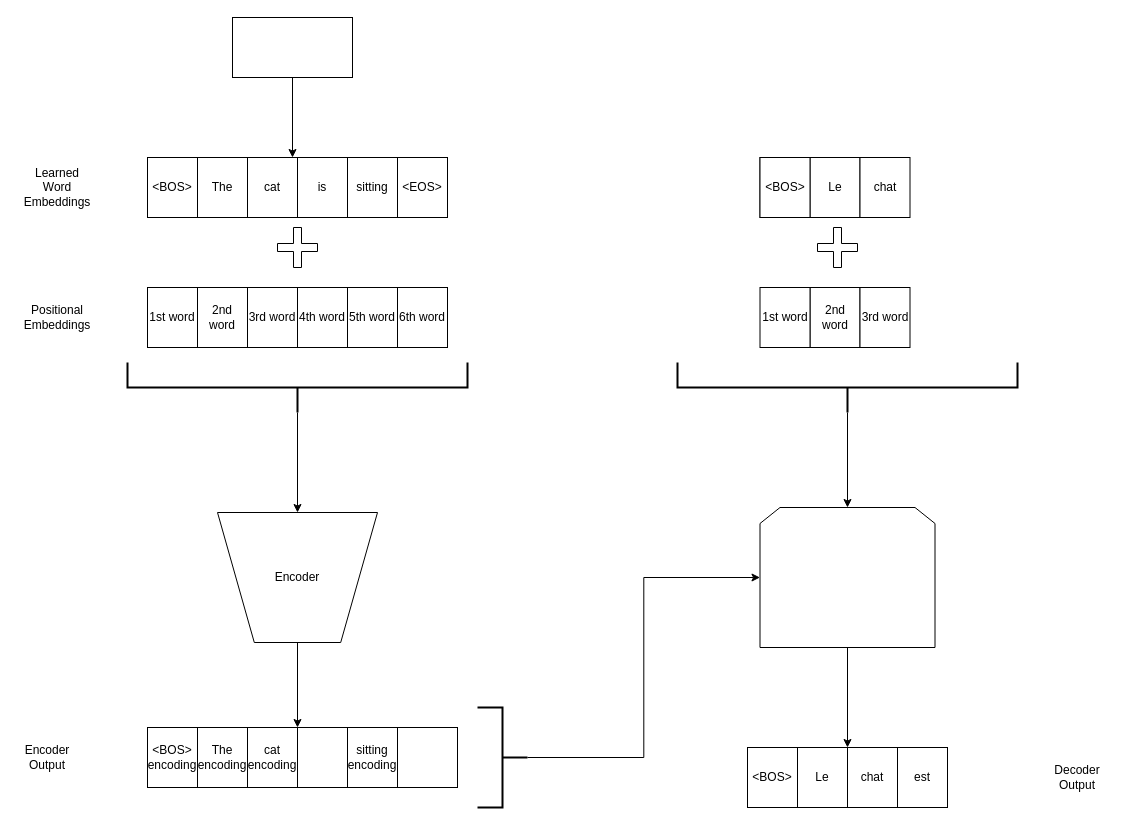
Some shapes in this 1124 by 826 pixel diagram are drawn without their labels. The shapes that lost their labels are listed below. From the top down, each one's centre as x and y in pixels, then its label:
At (292,47): "The cat is sitting".
At (847,577): "Decoder".
At (322,757): "is encoding".
At (427,757): "<EOS> encoding".
